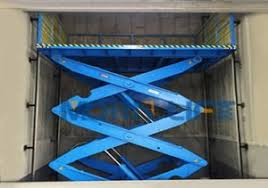Scissor Lift: (24, 14, 249, 181)
